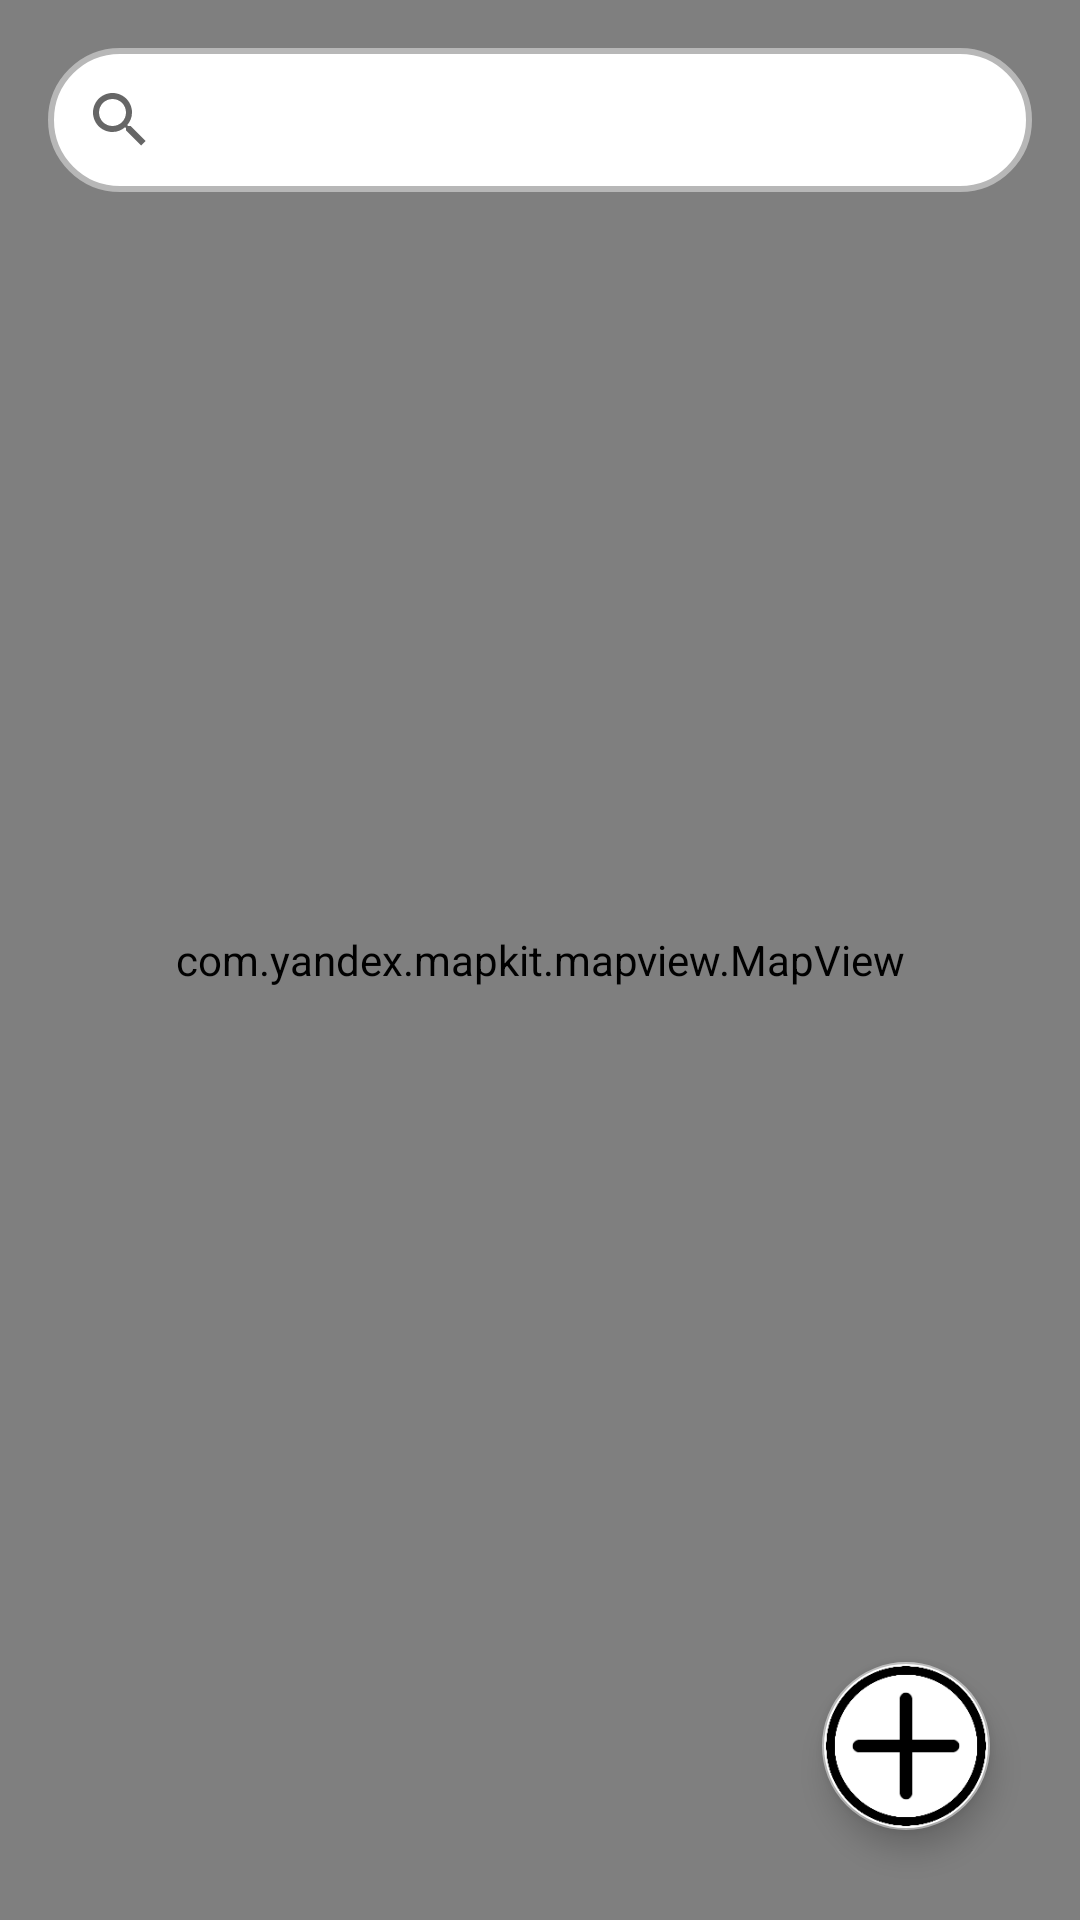

Locate icon controls on the screen. Image size 1080w x 1920h, boxes as [x1,y1,x2,y2].
plus: [822,1662,990,1830]
